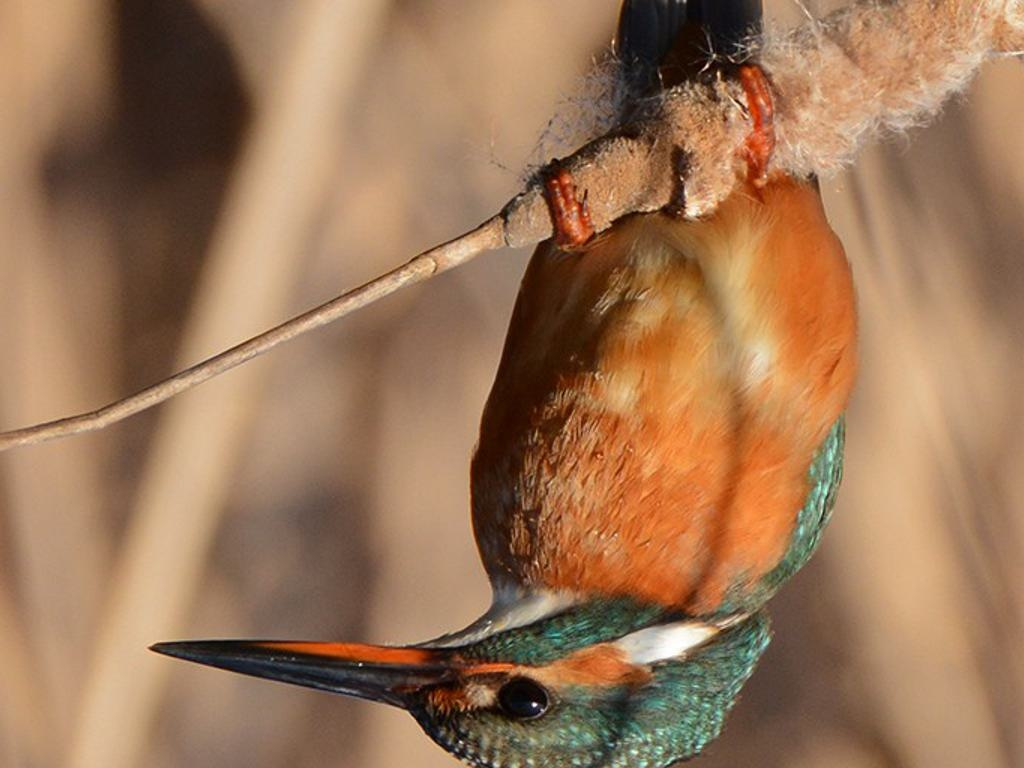kingfisher: (145, 94, 871, 764)
